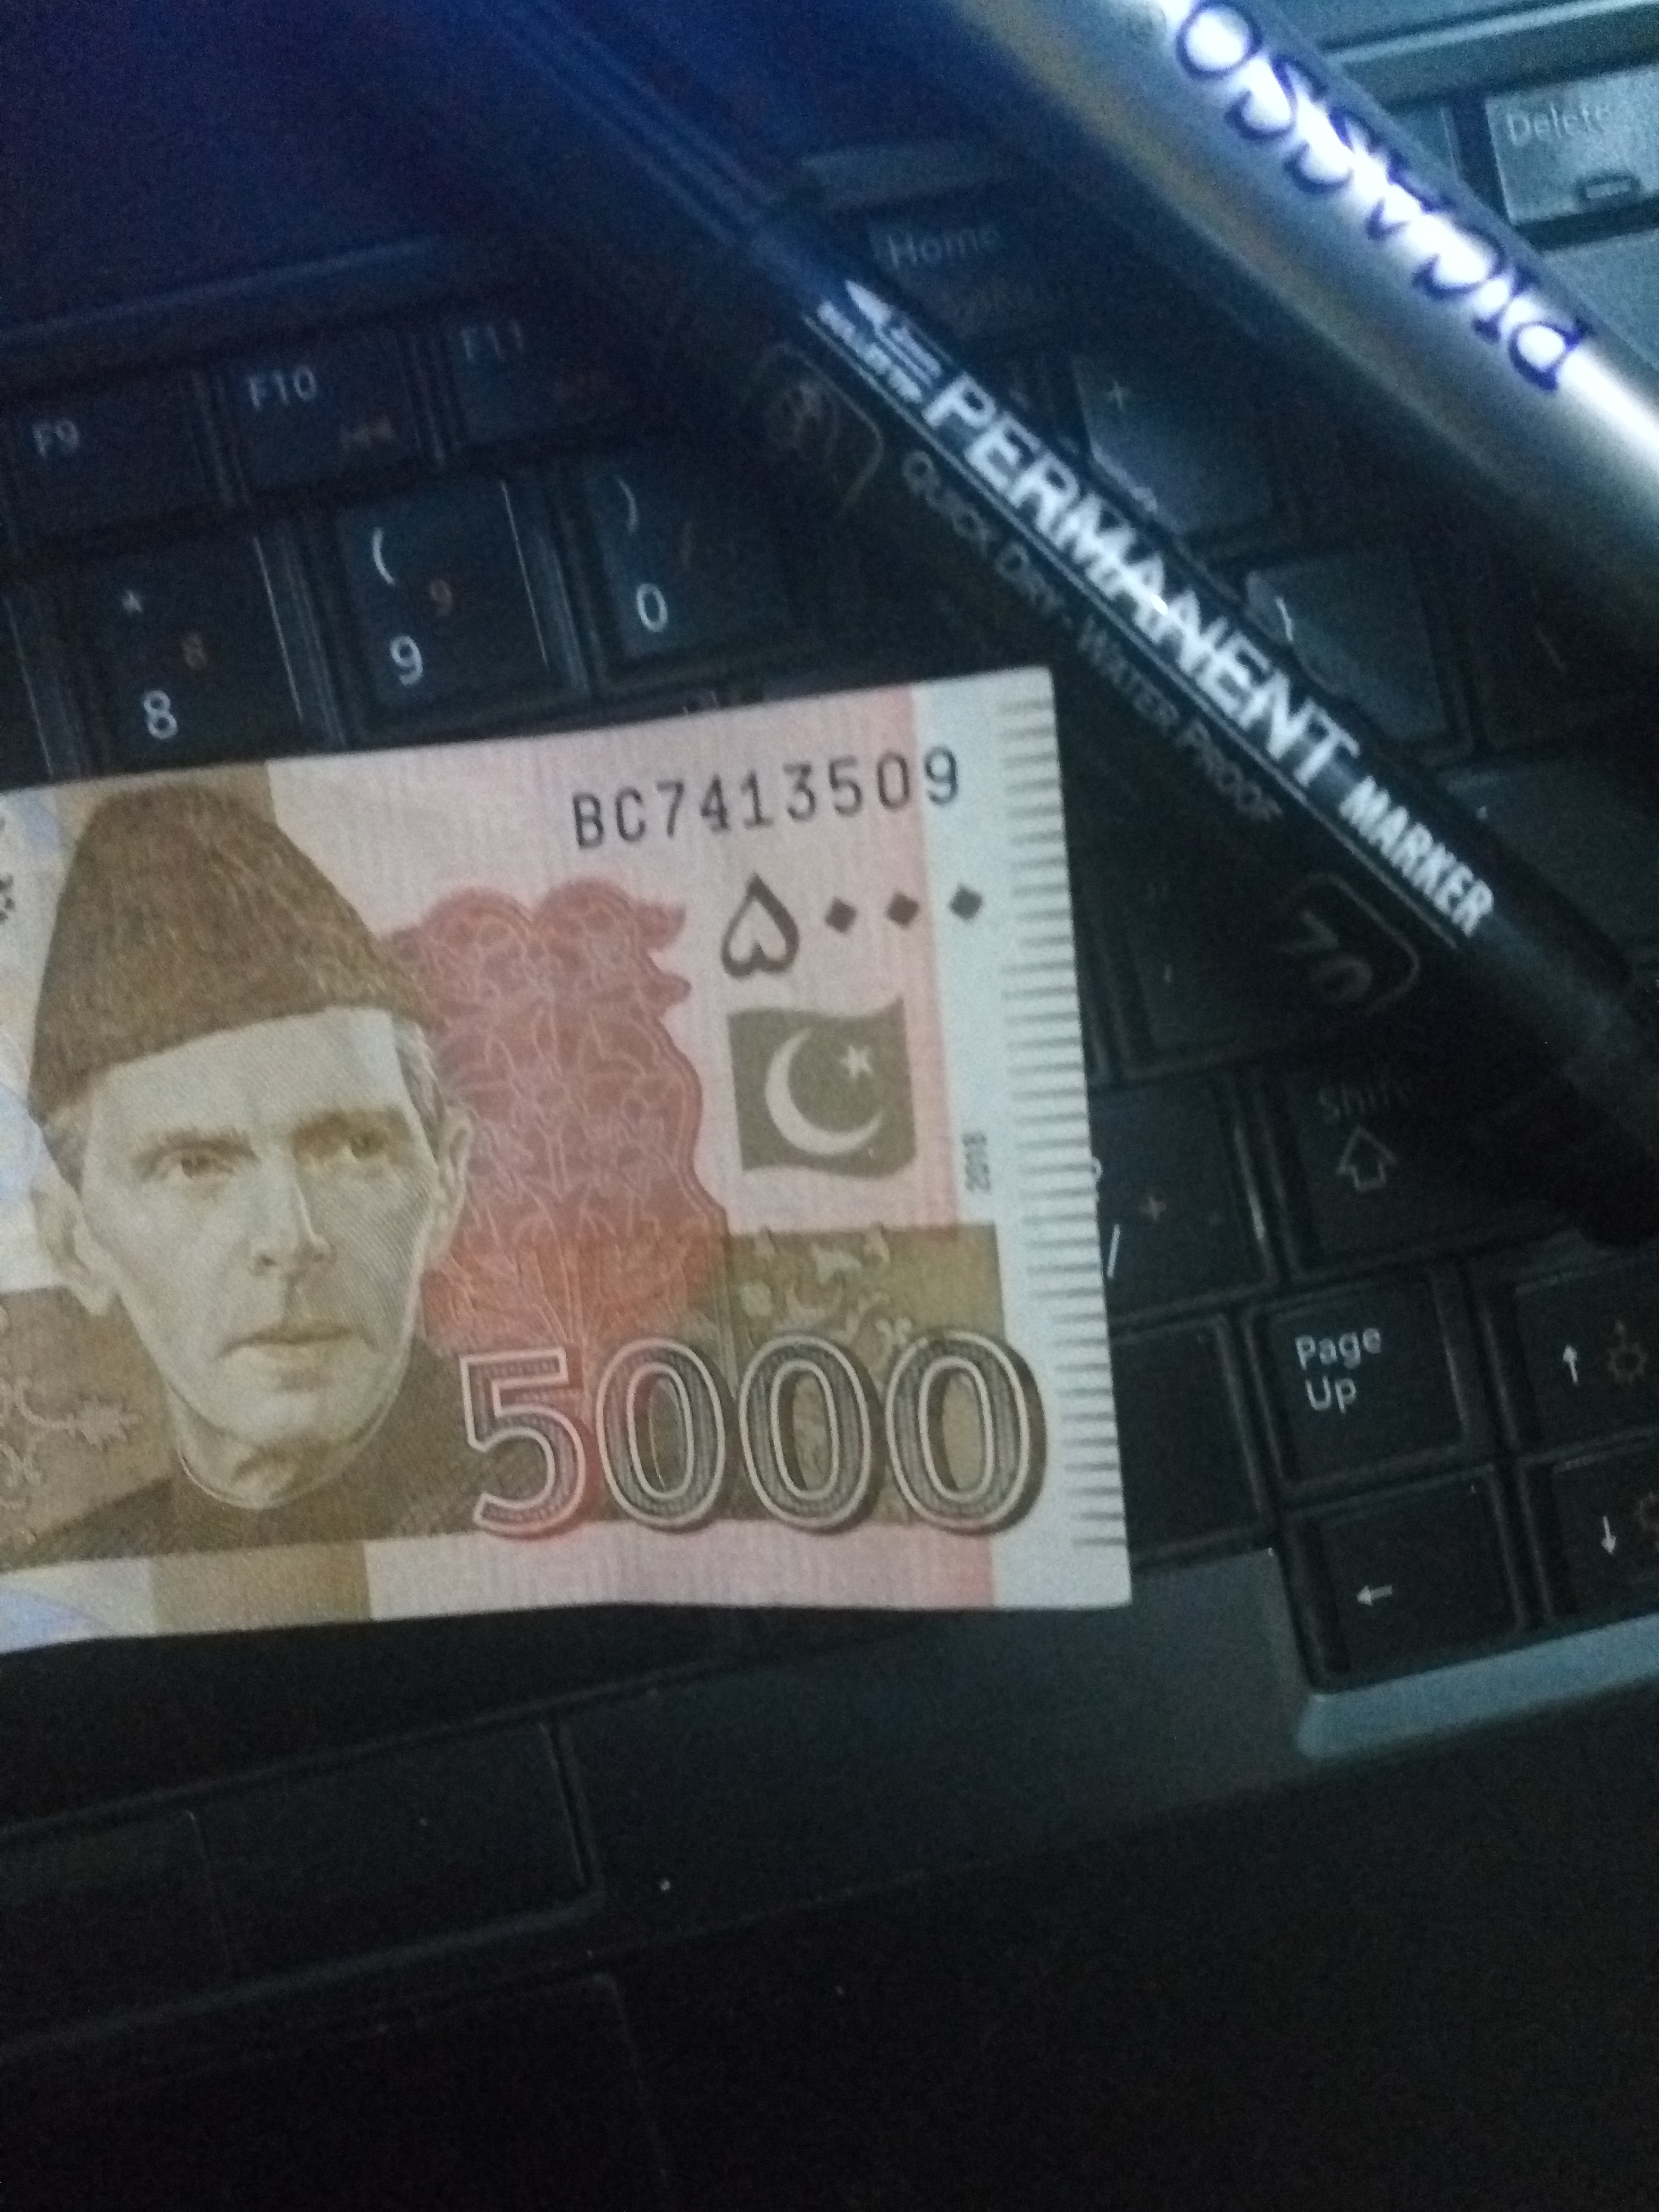5000 rupee: (2, 697, 1258, 1808)
